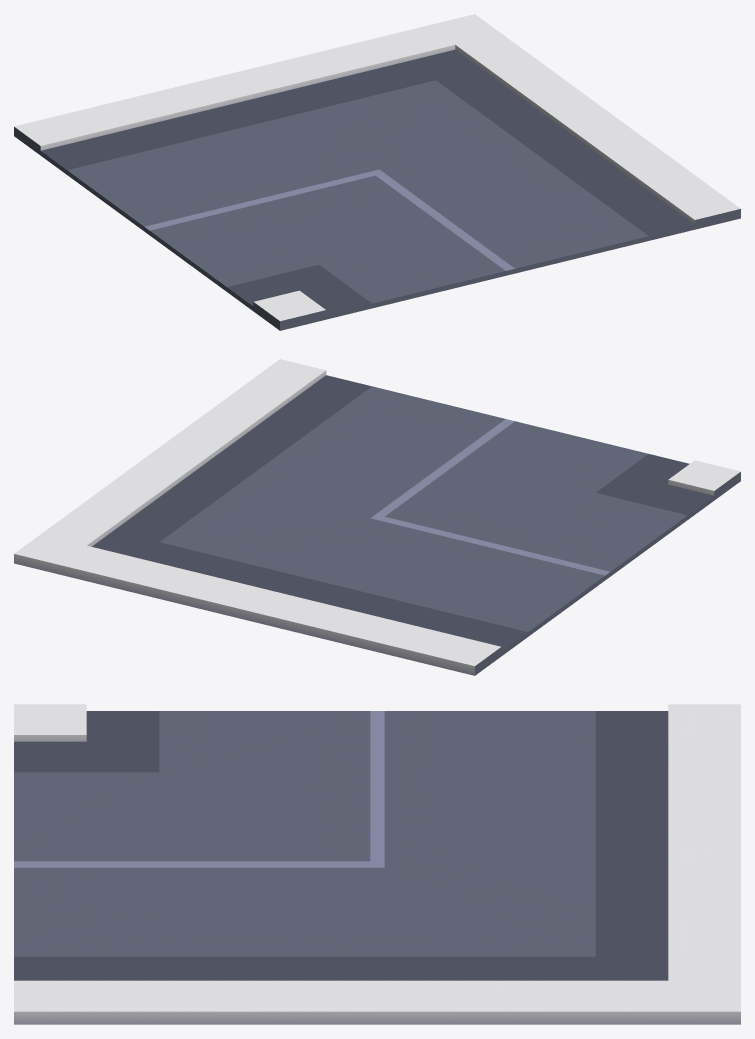
File: road-bend-square.glb
The picture shows the model from 3 angles, top to bottom: view 1: azimuth 30°, elevation 25°; view 2: azimuth 150°, elevation 25°; view 3: azimuth 270°, elevation 25°; orthographic projection. The views are drawn at different scales.
Parts seen in each view (by area): view 1: road-bend-square; view 2: road-bend-square; view 3: road-bend-square.
Boxes of the visible parts, x1,y1,x2,y2 form: road-bend-square: (14,14,740,330); road-bend-square: (14,359,740,675); road-bend-square: (14,704,740,1024).
Size of the model in its own units: 1 by 0.02 by 1.
1 material, 1 textured.
